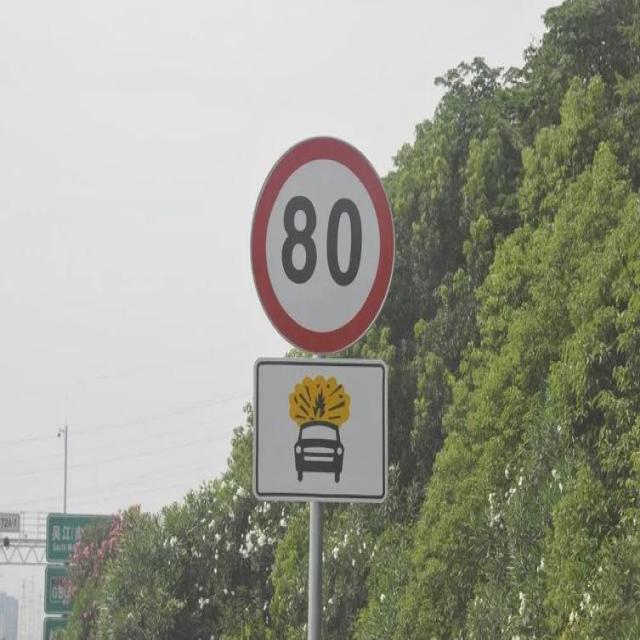speed limit 80: (251, 135, 397, 352)
